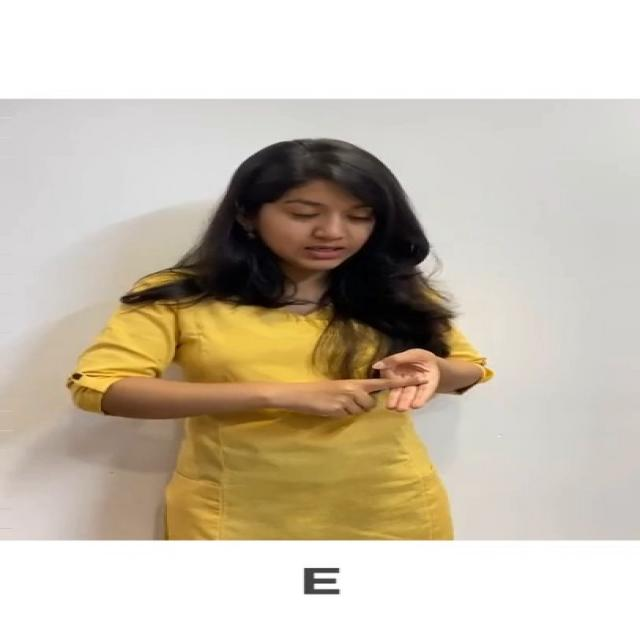E: (253, 345, 469, 435)
